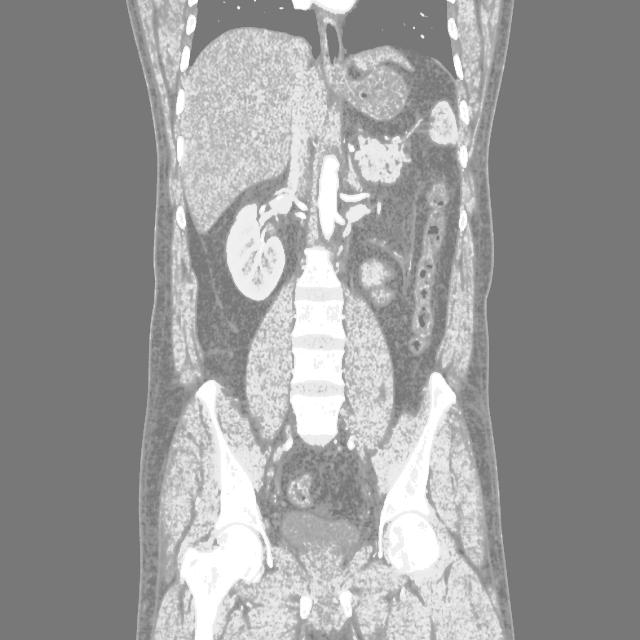NORMAL: (96, 26, 580, 597)
